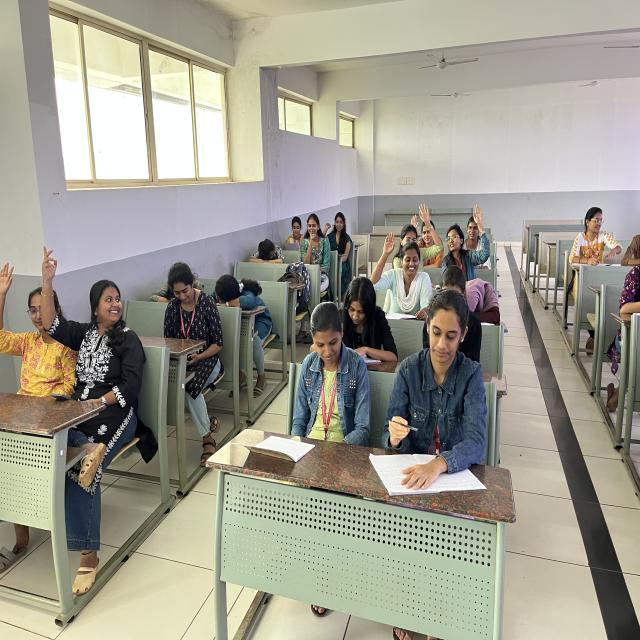Hand Rising: (38, 238, 145, 416), (0, 250, 42, 406), (401, 200, 447, 270), (448, 199, 492, 272), (371, 226, 408, 306)
Reading: (285, 216, 304, 250)
Sleeping: (207, 273, 280, 338), (460, 274, 507, 330), (246, 235, 286, 265)
Writing: (386, 285, 486, 491), (334, 274, 400, 364), (571, 204, 621, 276)
